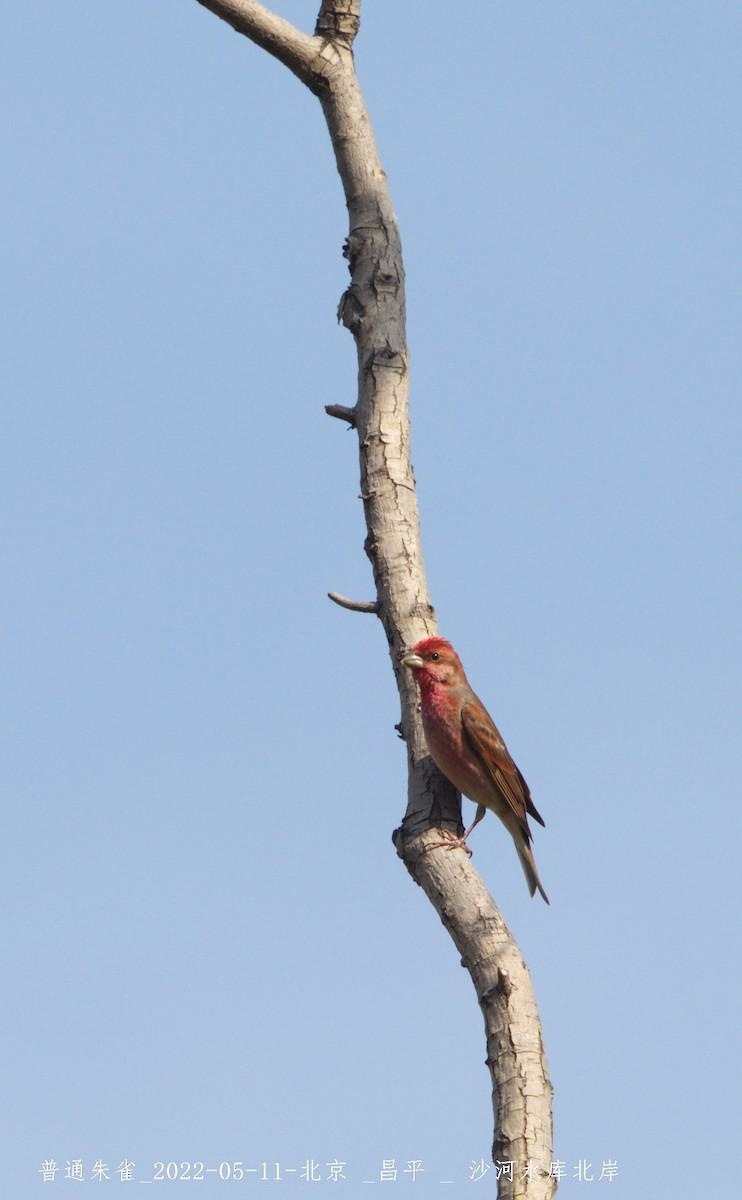rosefinch: (396, 621, 565, 899)
